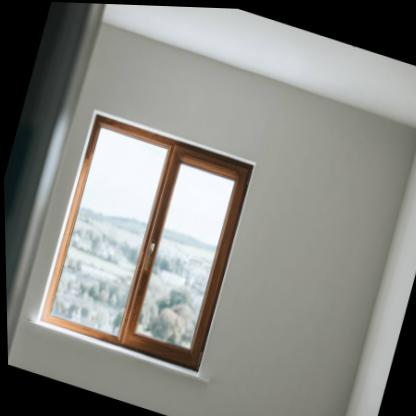Window: (33, 106, 256, 370)
